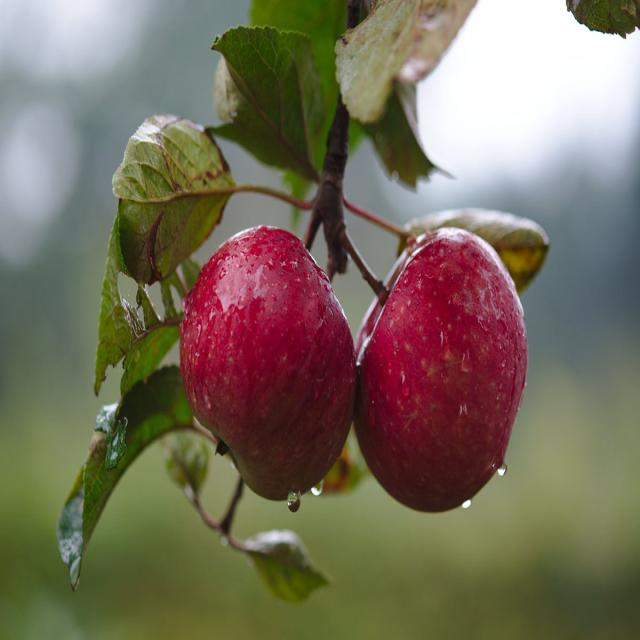Apple: (177, 225, 362, 507), (354, 224, 530, 516)
